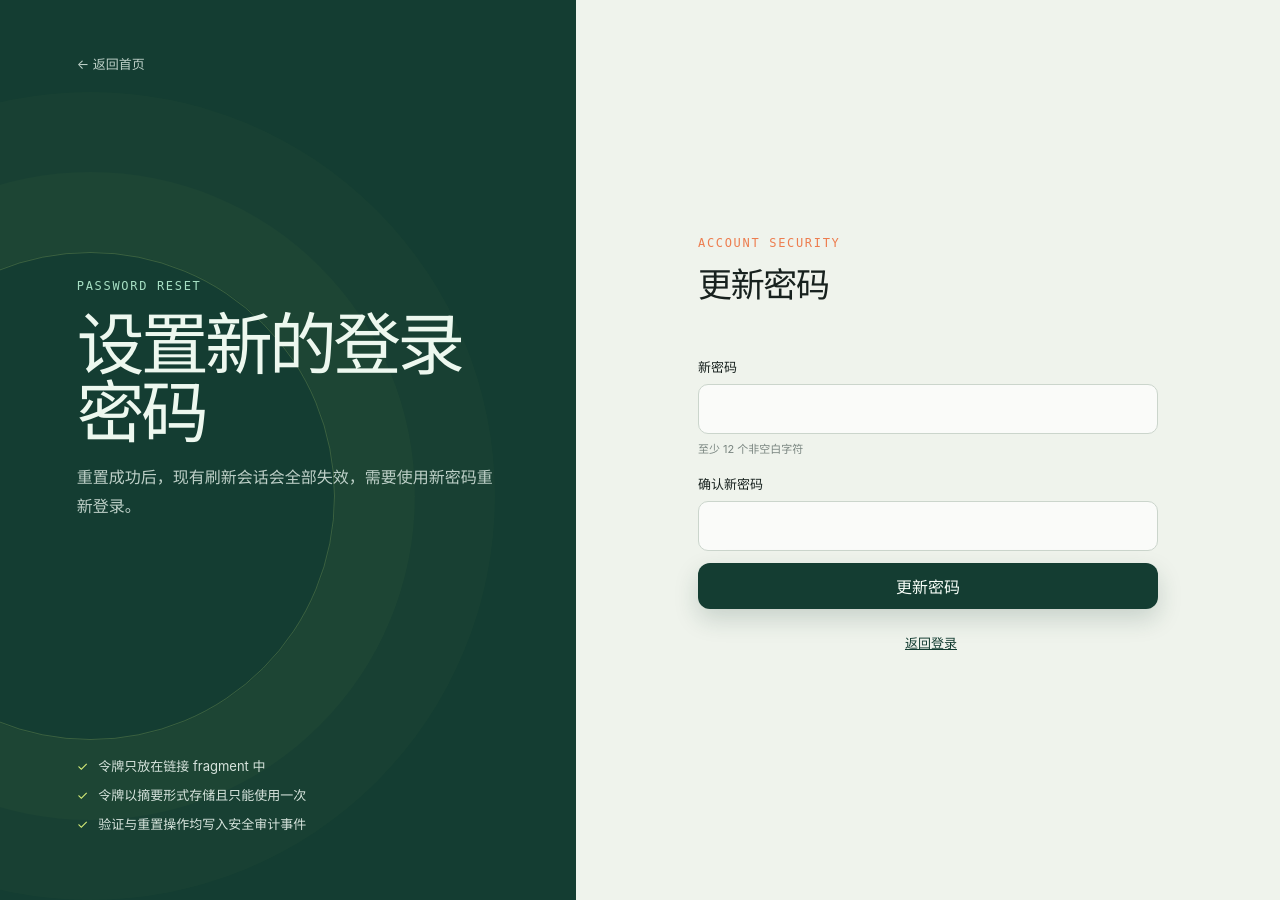
Test: application authentication routes › rejects mismatched reset passwords without consuming the token
The width and height of the screenshot is (1280, 900).
Type "a secure password" into the password field labelled "新密码" at (928, 408), box [698,384,1158,434]
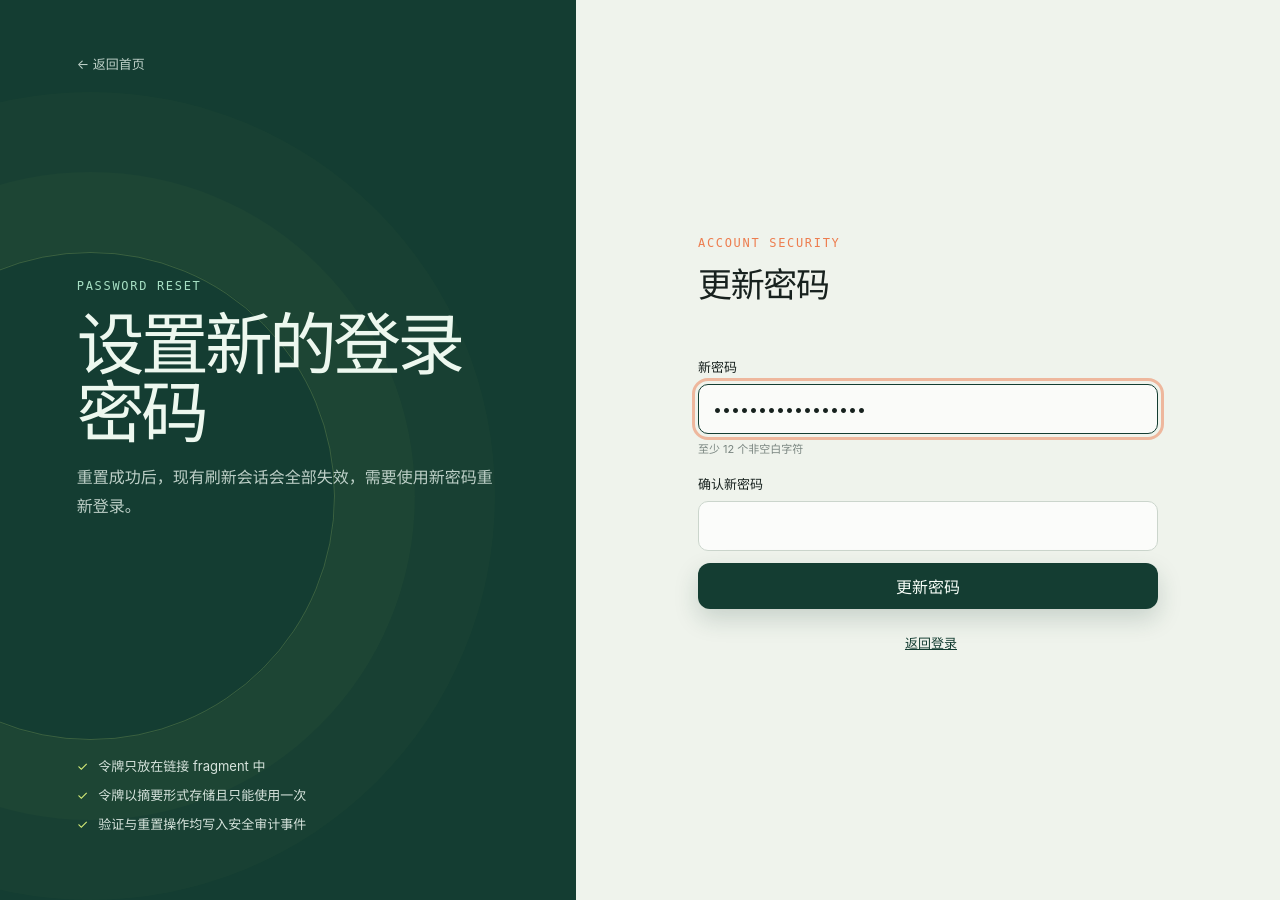
Type "a different password" into the password field labelled "确认新密码" at (928, 526), box [698,500,1158,550]
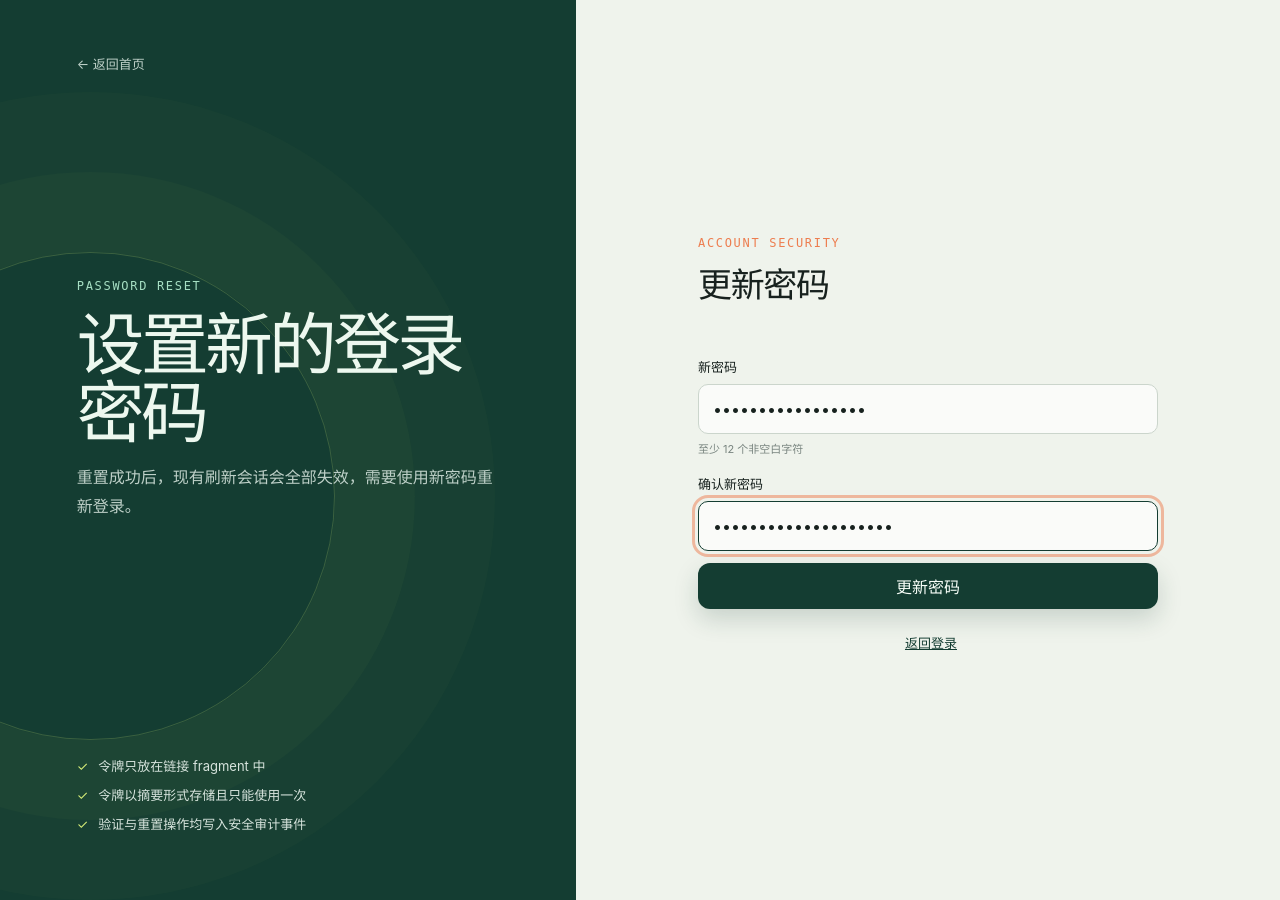
Click the button "更新密码" at (928, 586), box [698,562,1158,608]
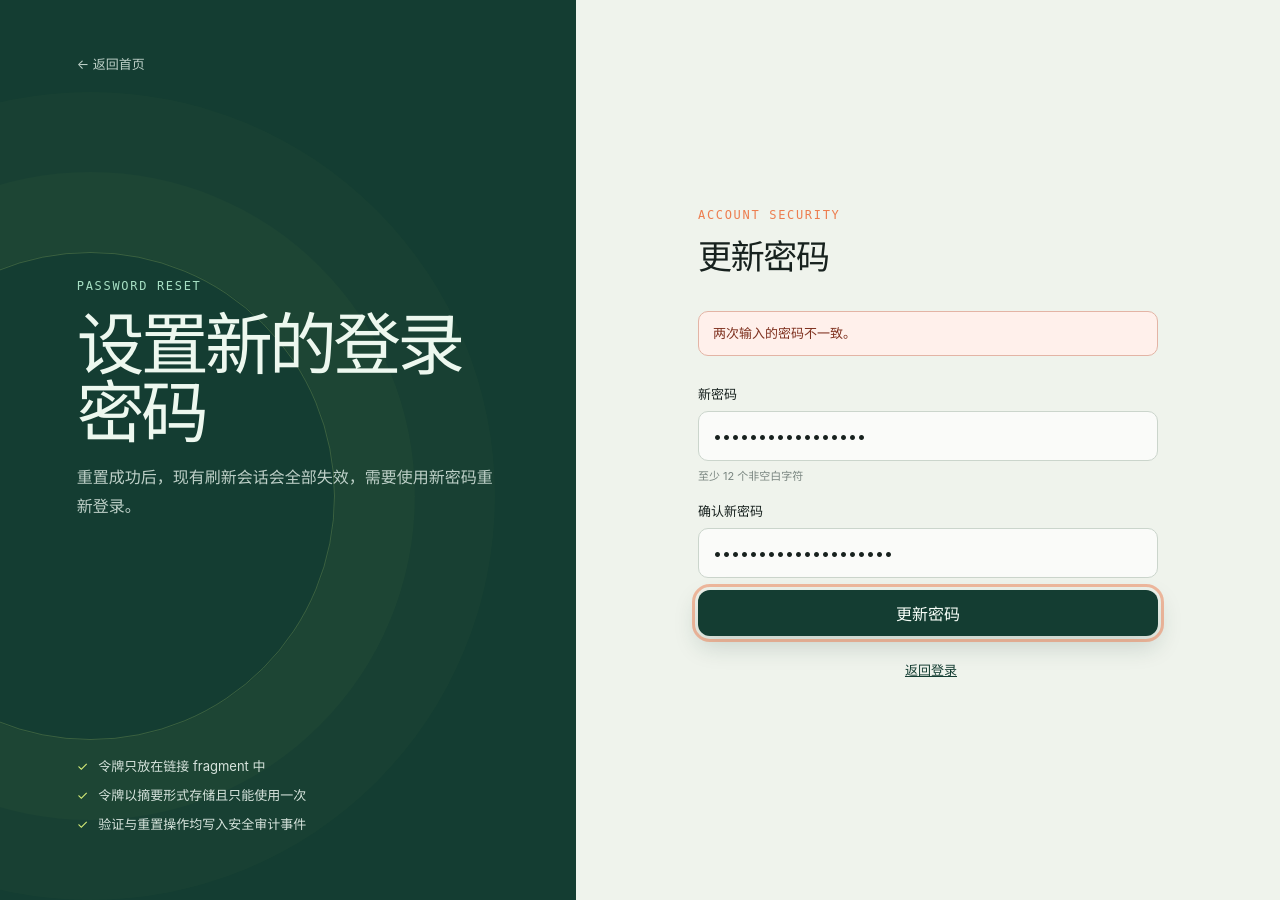
expect the message shows "两次输入的密码不一致": met, box [713,325,856,341]
